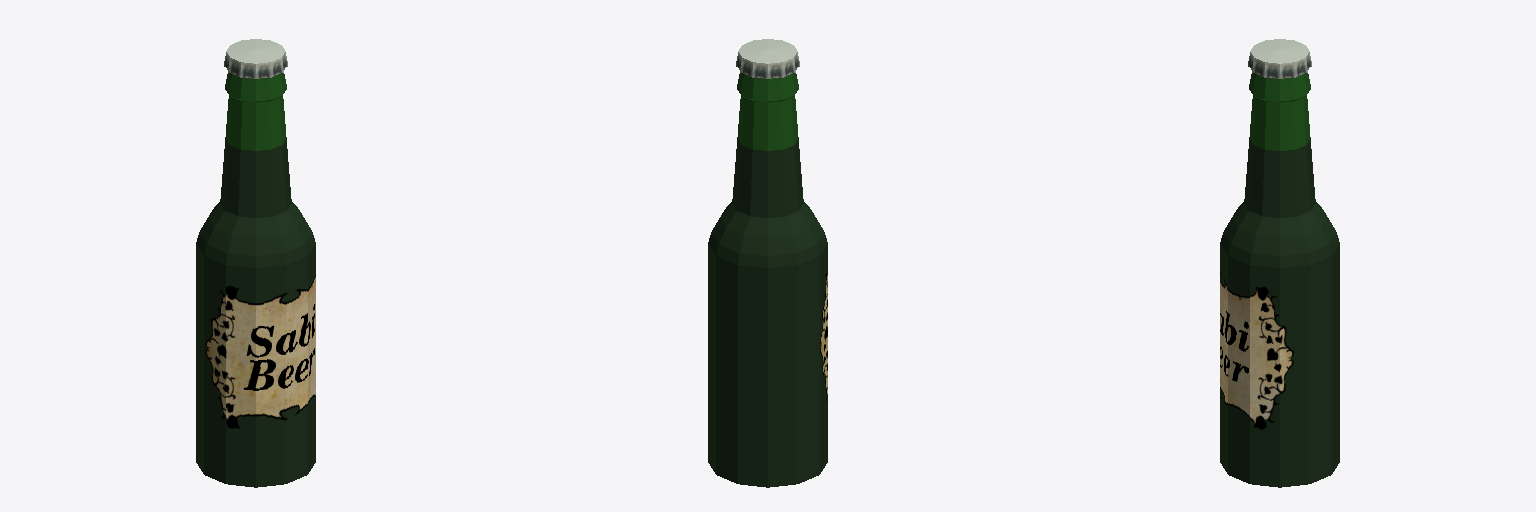
3 renders of one model, left to right at view 1: azimuth 30°, elevation 25°; view 2: azimuth 150°, elevation 25°; view 3: azimuth 270°, elevation 25°, orthographic.
Visible parts, largest first — view 1: skin; view 2: skin; view 3: skin.
Part boxes in pixels (x1,y1,x2,y2): skin: (196,39,315,487); skin: (708,39,827,487); skin: (1220,39,1339,487).
Size of the model in its own units: 2 by 7.63 by 2.
Materials: 1 (1 with a texture image).